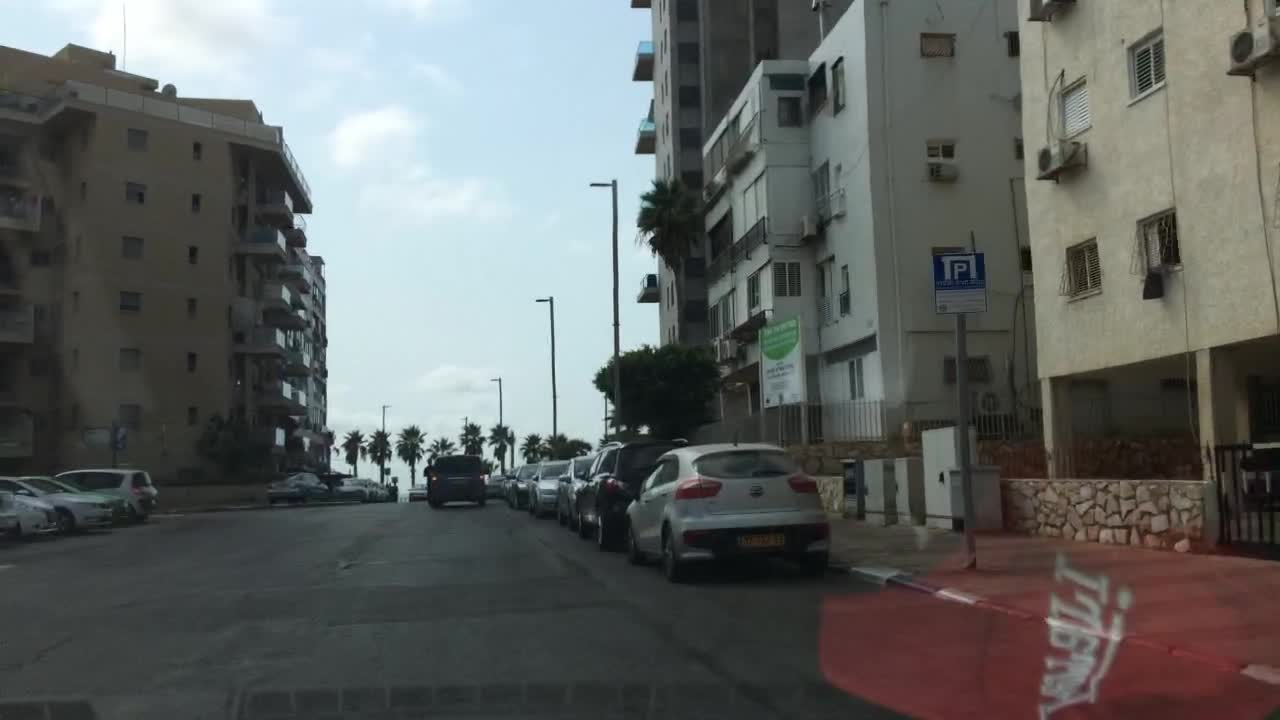car: (625, 435, 829, 584), (571, 435, 689, 549), (8, 476, 123, 533), (53, 468, 158, 527), (0, 477, 59, 542), (424, 454, 487, 507), (553, 455, 595, 531), (525, 458, 571, 518), (266, 471, 330, 504), (505, 461, 541, 509), (484, 467, 522, 503), (332, 476, 373, 501), (406, 483, 426, 503), (366, 479, 382, 503), (379, 485, 391, 503)
traffic sign: (931, 251, 987, 314), (112, 426, 127, 449)
